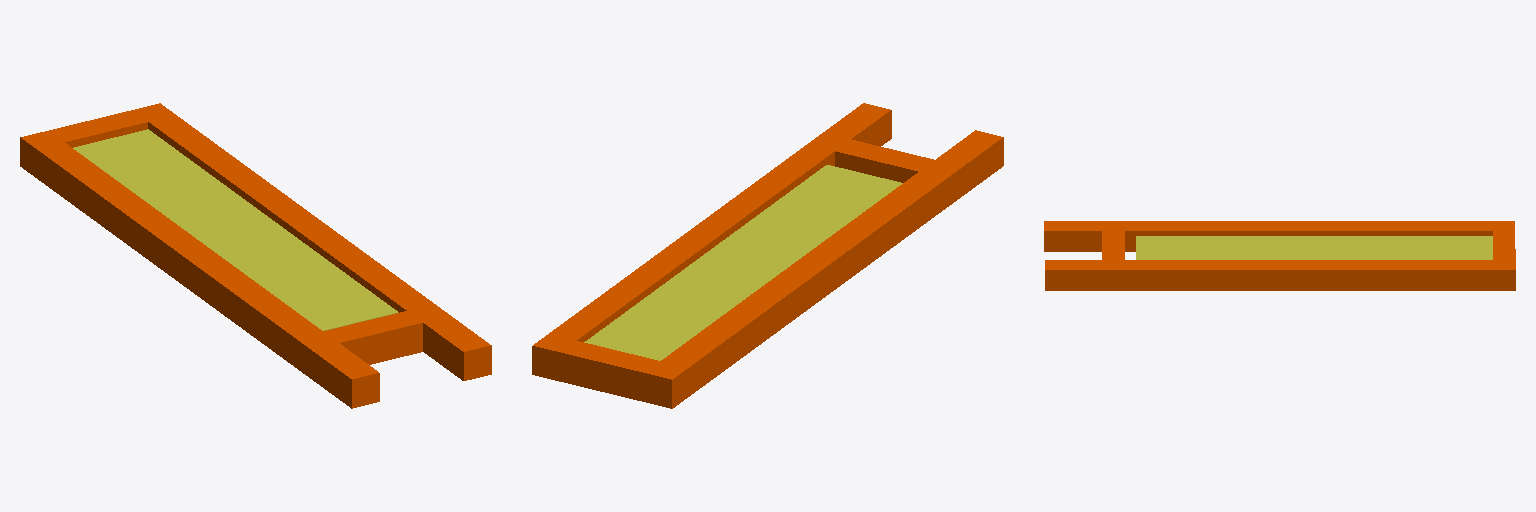
The robot description file, URDF, robot "urdf_door":
<?xml version="1.0" ?>
<robot name="urdf_door">
 <link name="world"/>
  <joint name="fixed" type="fixed">
    <parent link="world"/>
    <child link="baseLink"/>
    <origin rpy="1.571 0 3.142" xyz="0 0 0"/>
  </joint>

  <link name="baseLink">
    <inertial>
      <origin rpy="0 0 0" xyz="0 0 0.2"/>
       <mass value="10.0"/>
       <inertia ixx="0.1" ixy="0" ixz="0" iyy="0.1" iyz="0" izz="0.1"/>
    </inertial>
    <visual>
      <origin rpy="0 0 0" xyz="0.05 0 0.5"/>
      <geometry>
      <box size="0.1 0.1 2.0"/>
      </geometry>
	   <material name="framemat0">
      <color
                    rgba="0.9 0.4 0. 1" />
      </material>
    </visual>
    <visual>
      <origin rpy="0 0 0" xyz="0.45 0 0.5"/>
      <geometry>
        <box size="0.1 0.1 2.0"/>
      </geometry>
	  <material name="framemat0"/>
    </visual>
    <visual>
      <origin rpy="0 0 0" xyz="0.25 0 1.5"/>
      <geometry>
        <box size="0.5 0.1 0.1"/>
      </geometry>
	  <material name="framemat0"/>
	  </visual>
    <visual>
      <origin rpy="0 0 0" xyz="0.25 0 -.2"/>
      <geometry>
        <box size="0.5 0.1 0.1"/>
      </geometry>
	  <material name="framemat0"/>
	  </visual>
    <collision>
      <origin rpy="0 0 0" xyz="0.05 0 0.5"/>
      <geometry>
        <box size="0.1 0.1 2.0"/>
      </geometry>
    </collision>
    <collision>
      <origin rpy="0 0 0" xyz="0.45 0 0.5"/>
      <geometry>
        <box size="0.1 0.1 2.0"/>
      </geometry>
    </collision>
    <collision>
      <origin rpy="0 0 0" xyz="0.25 0 2"/>
      <geometry>
        <box size="0.5 0.1 0.1"/>
      </geometry>
    </collision>
    <collision>
      <origin rpy="0 0 0" xyz="0.25 0 0"/>
      <geometry>
        <box size="0.5 0.1 0.1"/>
      </geometry>
    </collision>

  </link>
   <link name="childA">
    <inertial>
      <origin rpy="0 0 0" xyz="0.15 0 0.4"/>
      <mass value="1.0"/>
      <inertia ixx="0.048966669" ixy="0" ixz="0" iyy="0.046466667" iyz="0" izz="0.0041666669"/>
    </inertial>
    <visual>
      <origin rpy="0 0 0" xyz="0.16 0 .6"/>
      <geometry>
        <box size="0.39  0.05 1.6"/>
      </geometry>
	   <material name="doormat0">
      <color rgba="0.8 0.8 0.3 1" />
      </material>

	  </visual>
     <collision>
       <origin rpy="0 0 0" xyz="0.16 0 .6"/>
       <geometry>
         <box size="0.39  0.05 1.6"/>
       </geometry>
     </collision>

   </link>
   <joint name="joint_baseLink_childA" type="continuous">
    <parent link="baseLink"/>
    <child link="childA"/>
	<dynamics damping="1.0" friction="0.0001"/>
    <origin xyz="0.05 0 0.1"/>
		<axis xyz="0 0 1"/>
  </joint>
</robot>

--- What the picture shows (computed from the rendered views, not written in the file) ---
The picture shows the robot from 3 angles, left to right: view 1: azimuth 30°, elevation 25°; view 2: azimuth 150°, elevation 25°; view 3: azimuth 270°, elevation 25°; orthographic projection.
Robot: urdf_door — 3 links, 2 joints (1 continuous, 1 fixed); root link world; default pose: every joint at zero.
Visible links, largest first — view 1: baseLink, childA; view 2: baseLink, childA; view 3: baseLink, childA.
Link boxes in pixels (x1=…): baseLink: x1=20, y1=103, x2=491, y2=408; childA: x1=73, y1=129, x2=398, y2=330; baseLink: x1=532, y1=103, x2=1003, y2=408; childA: x1=584, y1=165, x2=902, y2=360; baseLink: x1=1044, y1=221, x2=1515, y2=290; childA: x1=1136, y1=236, x2=1492, y2=259.
Size in the robot's own frame: 0.5008 by 2.05 by 0.1004 metres.
Geometry: primitives only (box / cylinder / sphere), no mesh files.
